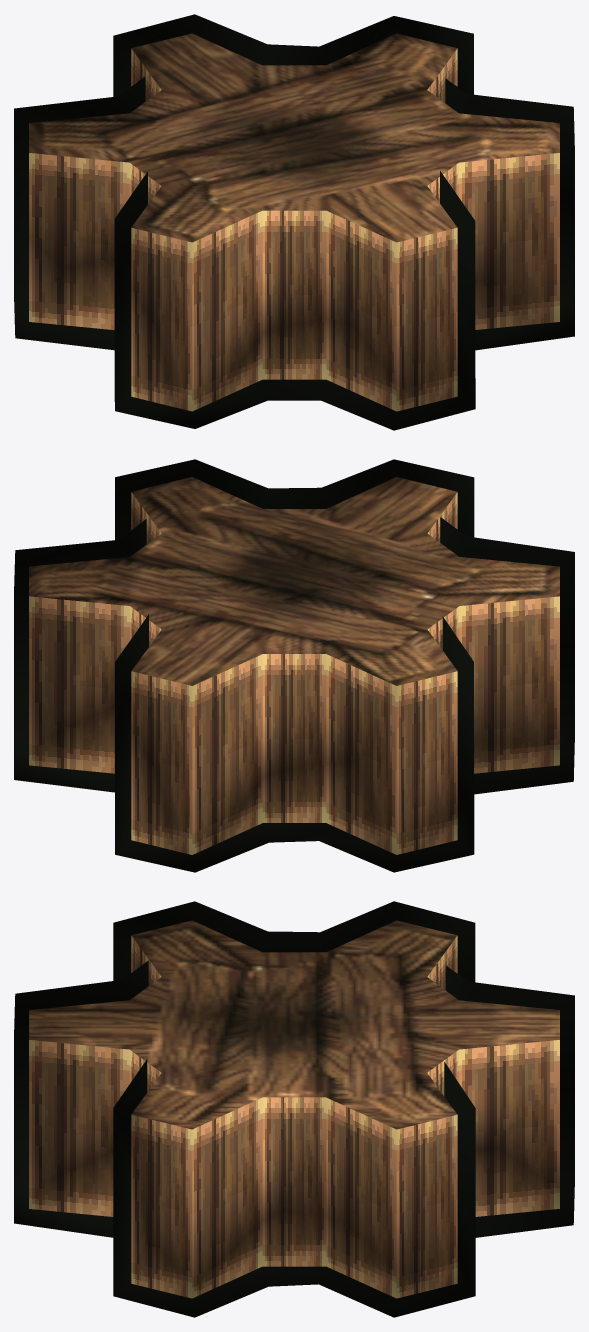
Rendered from INST_SWORDLIGHT_GEARPICKUP2.fbx.
3 renders of one model, top to bottom at view 1: azimuth 30°, elevation 25°; view 2: azimuth 150°, elevation 25°; view 3: azimuth 270°, elevation 25°, orthographic.
Visible parts, largest first — view 1: INST_SWORDLIGHT_GEARPICKUP2; view 2: INST_SWORDLIGHT_GEARPICKUP2; view 3: INST_SWORDLIGHT_GEARPICKUP2.
Part boxes in pixels (x1,y1,x2,y2): INST_SWORDLIGHT_GEARPICKUP2: (14, 14, 574, 430); INST_SWORDLIGHT_GEARPICKUP2: (14, 459, 574, 872); INST_SWORDLIGHT_GEARPICKUP2: (14, 901, 574, 1317).
Size of the model in its own units: 11364 by 4763 by 12030.
Materials: 2 (2 with a texture image).
